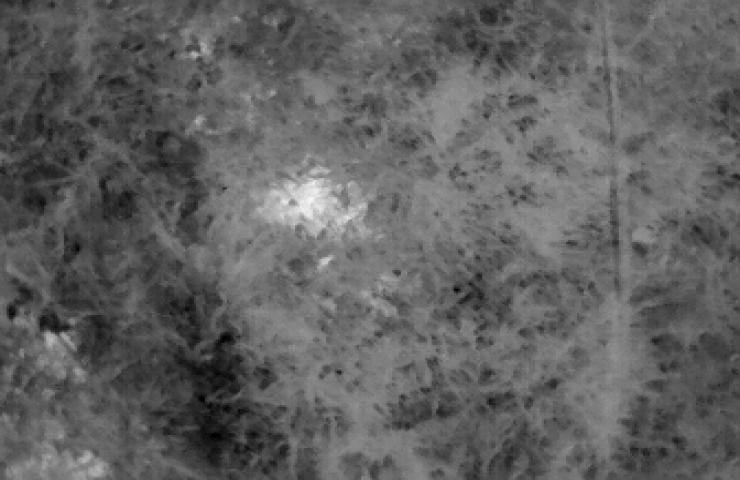landmines: (257, 167, 345, 235)
